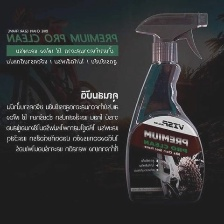cleaning_solution: (122, 7, 213, 220)
